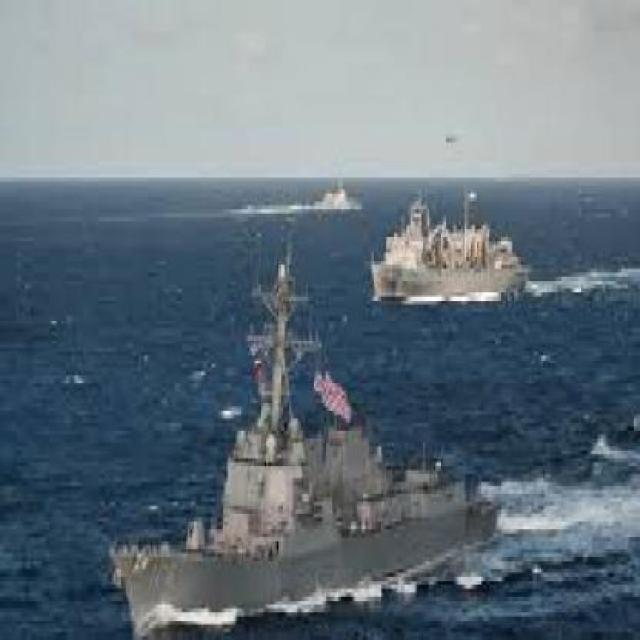warship2: (109, 254, 501, 637), (370, 183, 532, 329)
